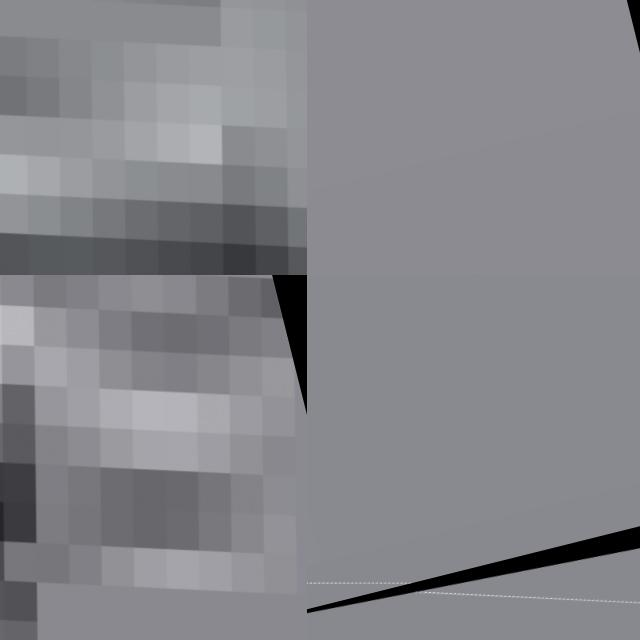drone: (0, 275, 307, 640), (0, 0, 307, 275), (307, 471, 640, 640)
